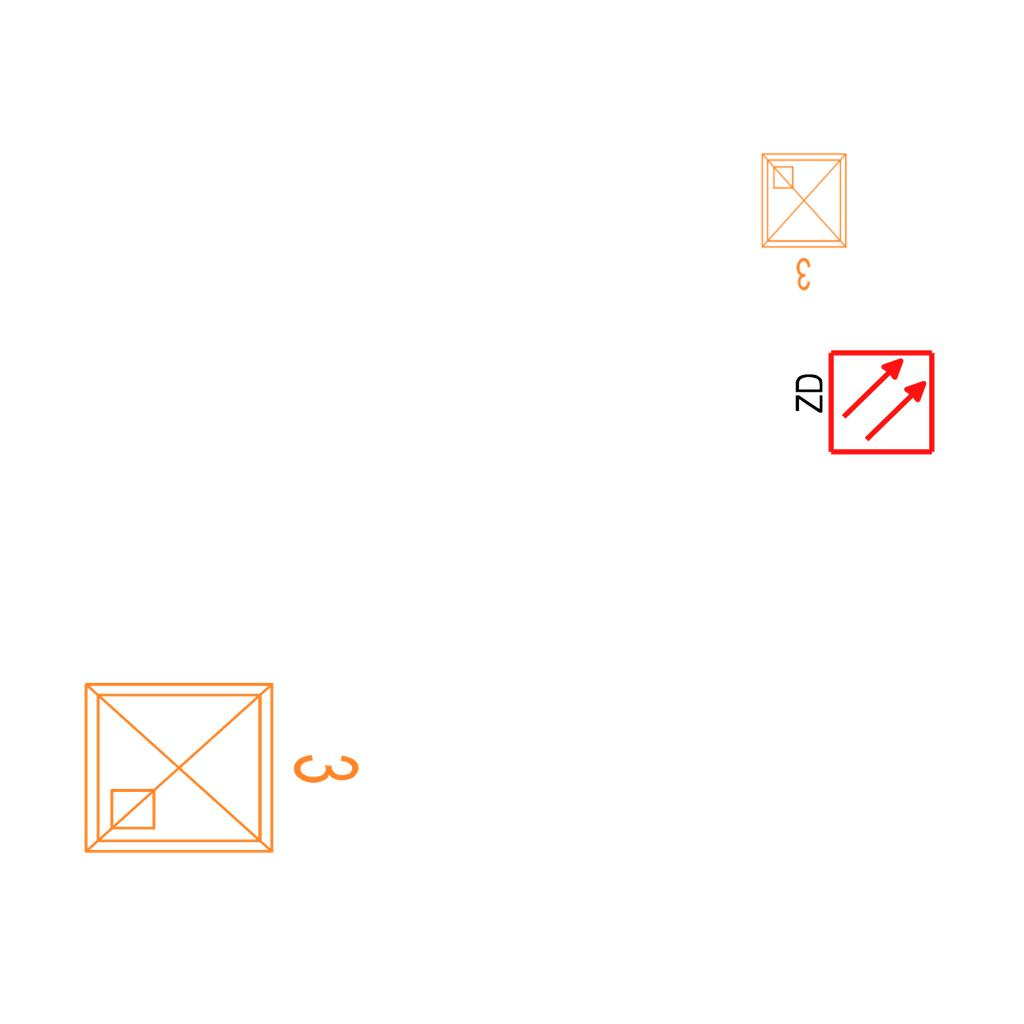Einbaudownlights_LED_Konferenzraeume: (70, 660, 370, 868), (754, 146, 858, 296)
ZD_Melder_in_Zwischendecke_mit_Revisionsoeffnung_mind_40_x_40_cm: (788, 347, 937, 461)
